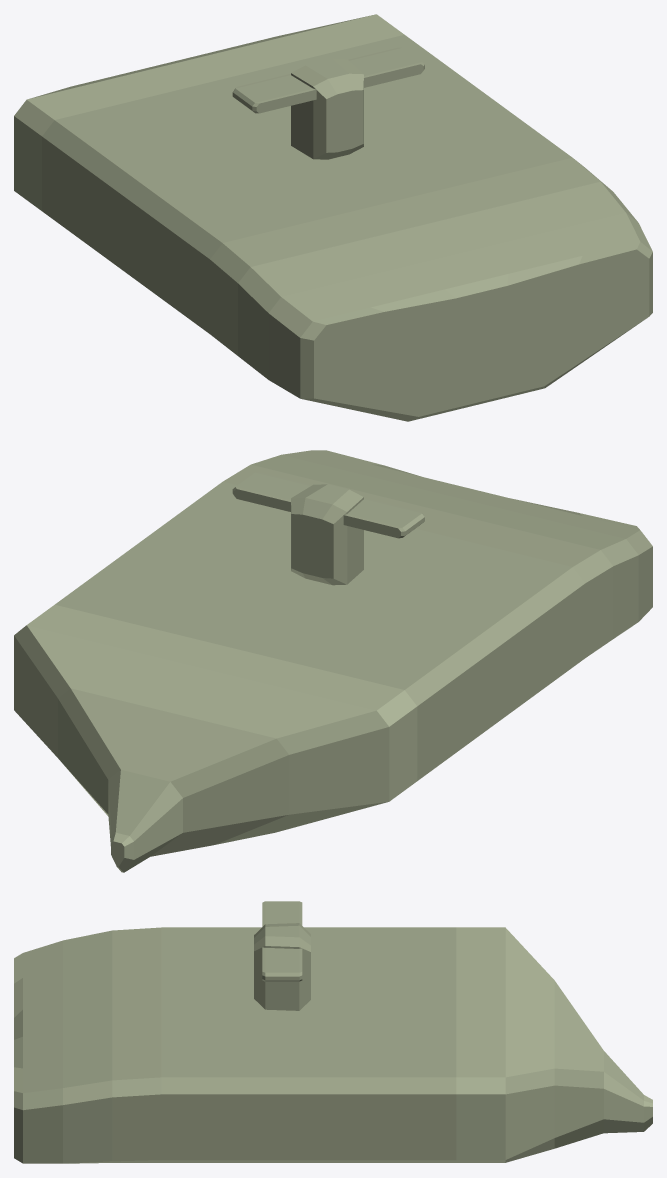
File: hartmann_scout_a.glb
3 views of the same model, one above another, from view 1: azimuth 30°, elevation 25°; view 2: azimuth 150°, elevation 25°; view 3: azimuth 270°, elevation 25° (orthographic). The views are drawn at different scales.
Visible parts, largest first — view 1: hartmann_scout_a; view 2: hartmann_scout_a; view 3: hartmann_scout_a.
Boxes of the visible parts, <box> form: hartmann_scout_a: <box>14,14,652,421</box>; hartmann_scout_a: <box>14,450,652,872</box>; hartmann_scout_a: <box>14,901,652,1163</box>.
Bounding box in the file's own units: 2.5 × 1.45 × 4.2.
